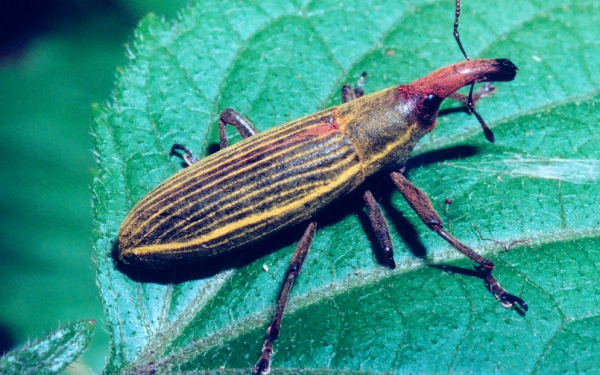dolgonosik: (114, 3, 531, 364)
